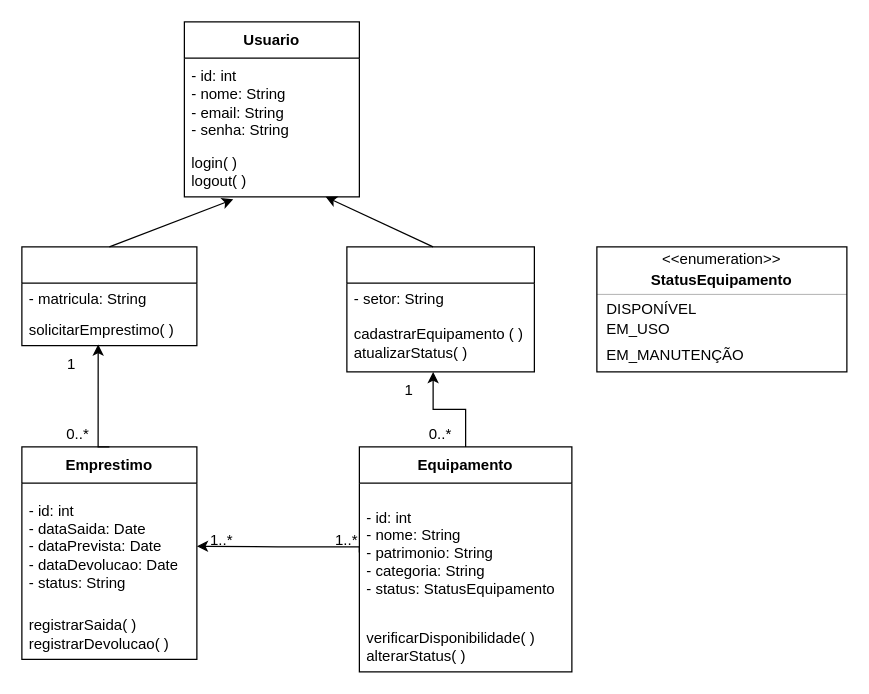
Image size: 869x694. Some labels were removed from this diagram. The shapes that lost their labels are listed below. From the top down, each one's box as (x1, y1, x2, y2) in pixels, then its label:
(21, 246, 197, 346): Aluno
(346, 246, 534, 372): Tecnico
